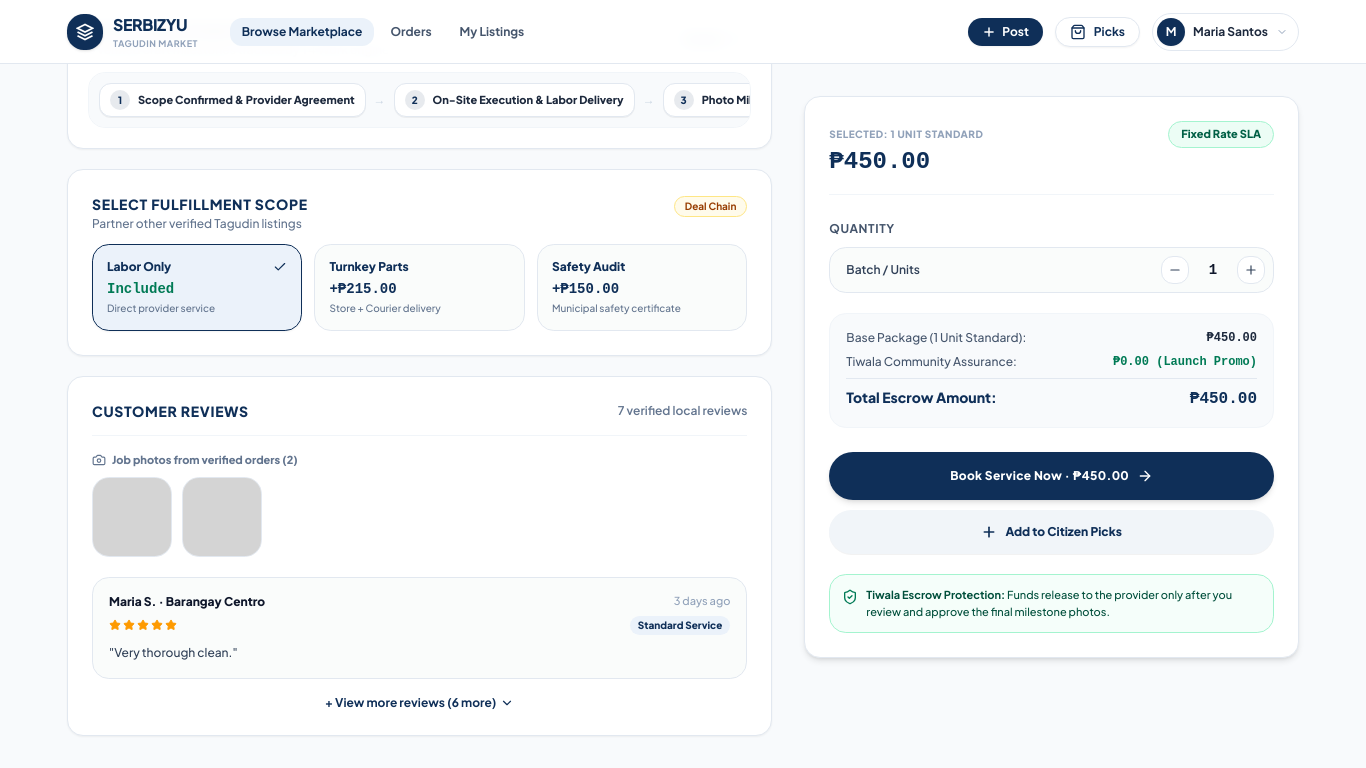
Test case: ListingDetail Page › renders verified reviews, thumbnails, and filter counts from listing data
(page scrolled)
Expected: the text "Job photos from verified orders (2)" is shown, [112,452,298,469]
Expected: the text "Maria S. · Barangay Centro" is shown, [109,594,265,610]
What coordinates should you click on to do the following:
click the button "+ View more reviews (6 more)"
I would click on:
 (420, 703)
Its box is [325,695,514,711].
(page scrolled)
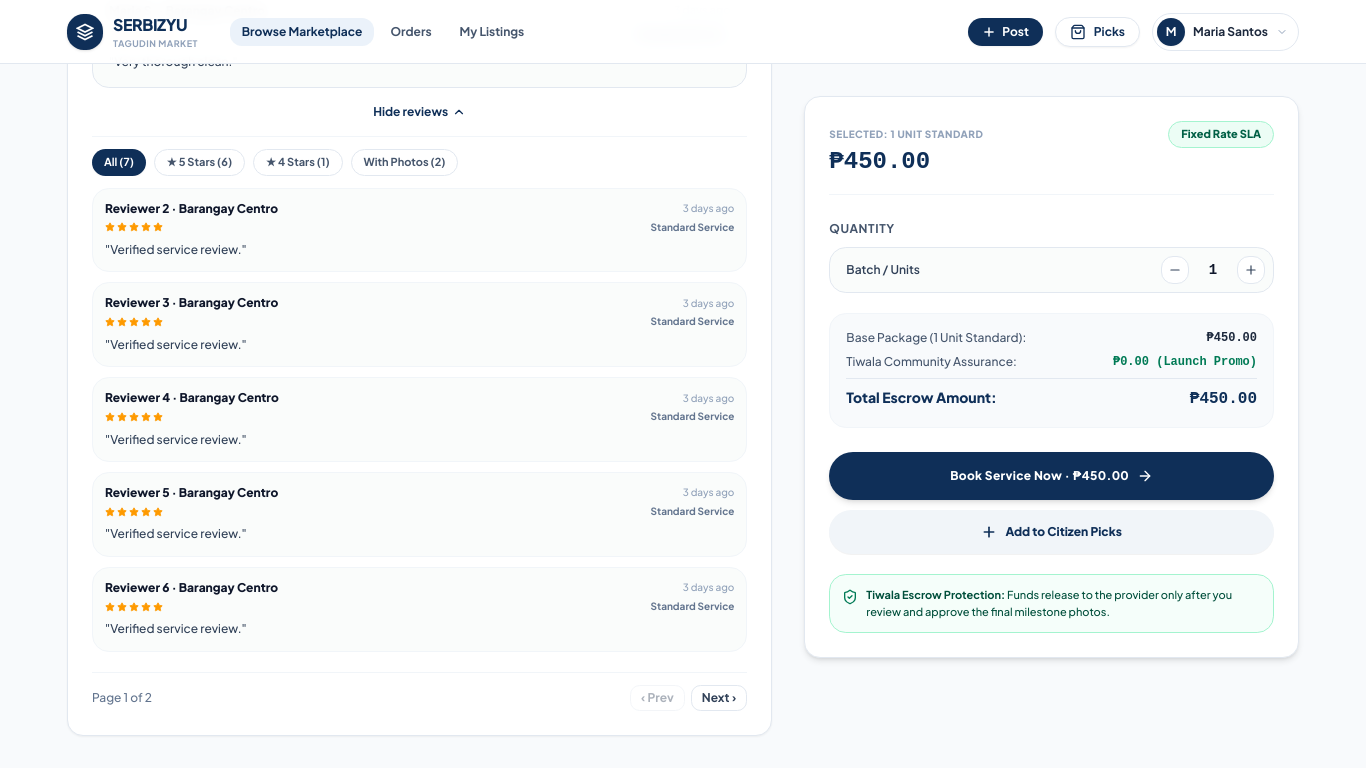
Expected: the button "All (7)" is shown, [92,149,146,176]
Expected: the button "★ 5 Stars (6)" is shown, [154,149,245,176]
Expected: the button "★ 4 Stars (1)" is shown, [253,149,343,176]
